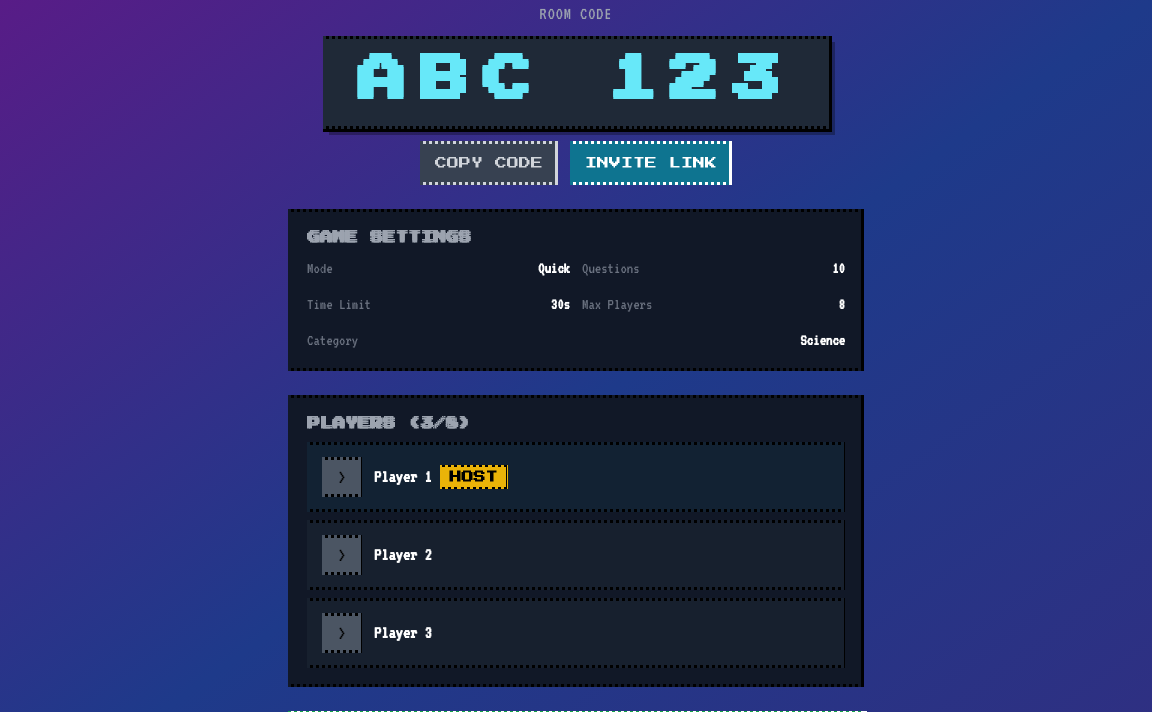
LobbyView › copy and share buttons › should copy room code to clipboard on copy button click
This screenshot has width=1152, height=712.
Click the button "COPY CODE".
click(489, 163)  # box [420,141,558,185]
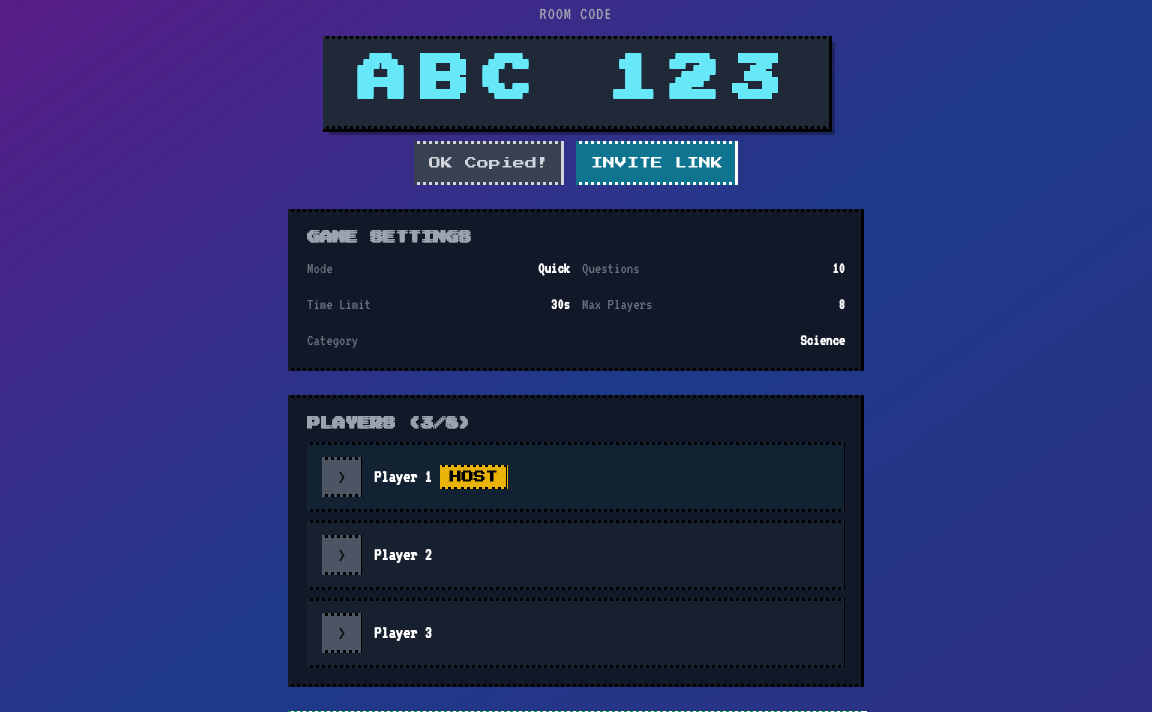
expect the button "OK Copied!" is shown: met, box [414,141,564,185]
